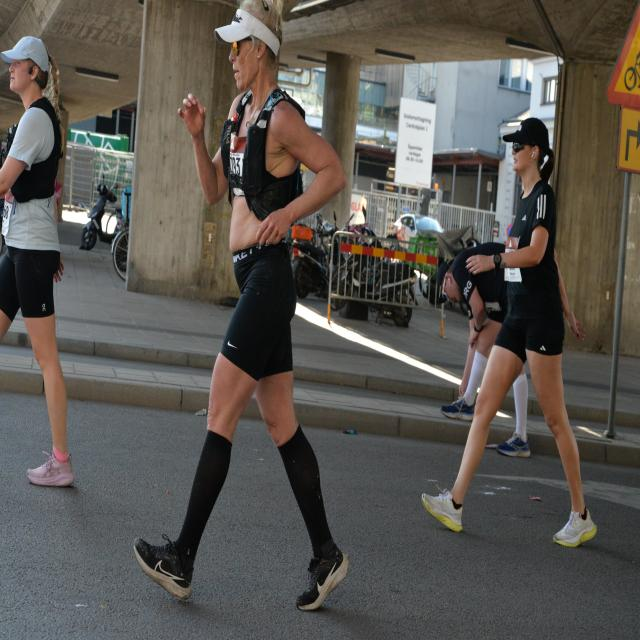runner-detect: (133, 8, 390, 610), (428, 111, 614, 548), (1, 27, 96, 506)
